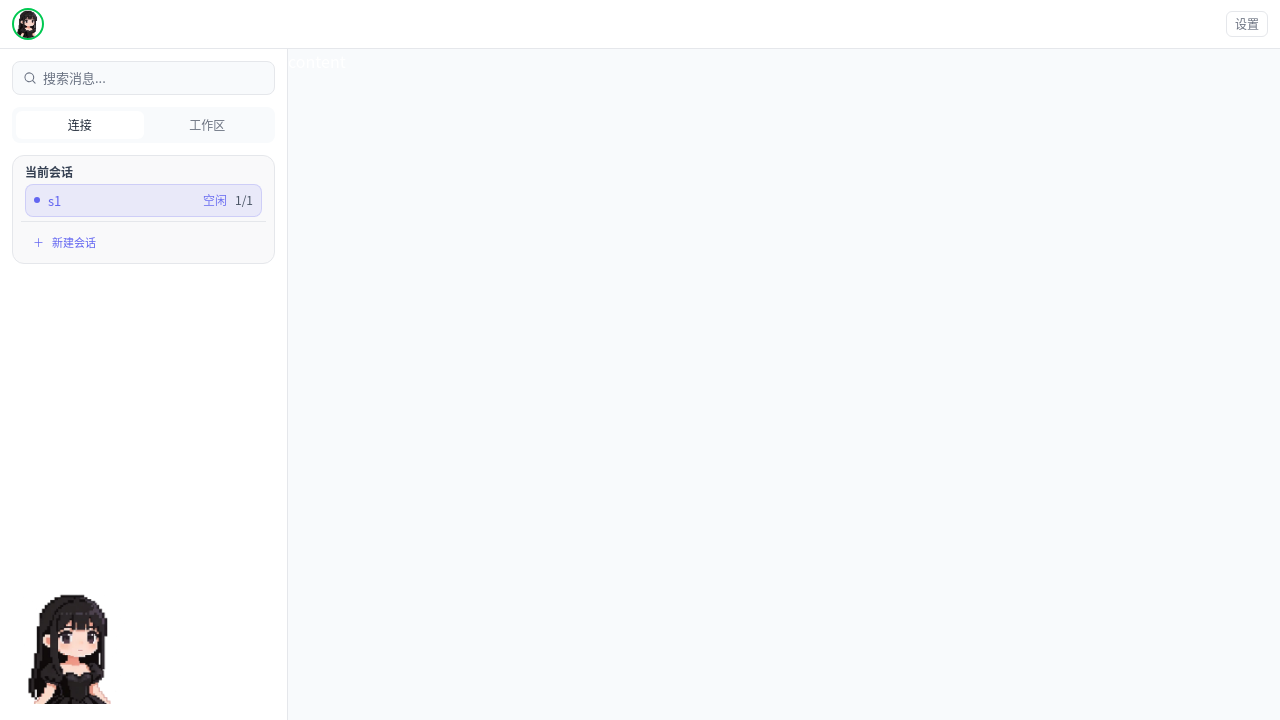
Scenario: Layout › desktop layout › switches between connection and workspace tabs in the sidebar
Expected: the text "当前会话" is shown, 25,162 -> 73,180
Click the tab "工作区". click: [207, 124]
box: 144,110 -> 271,138
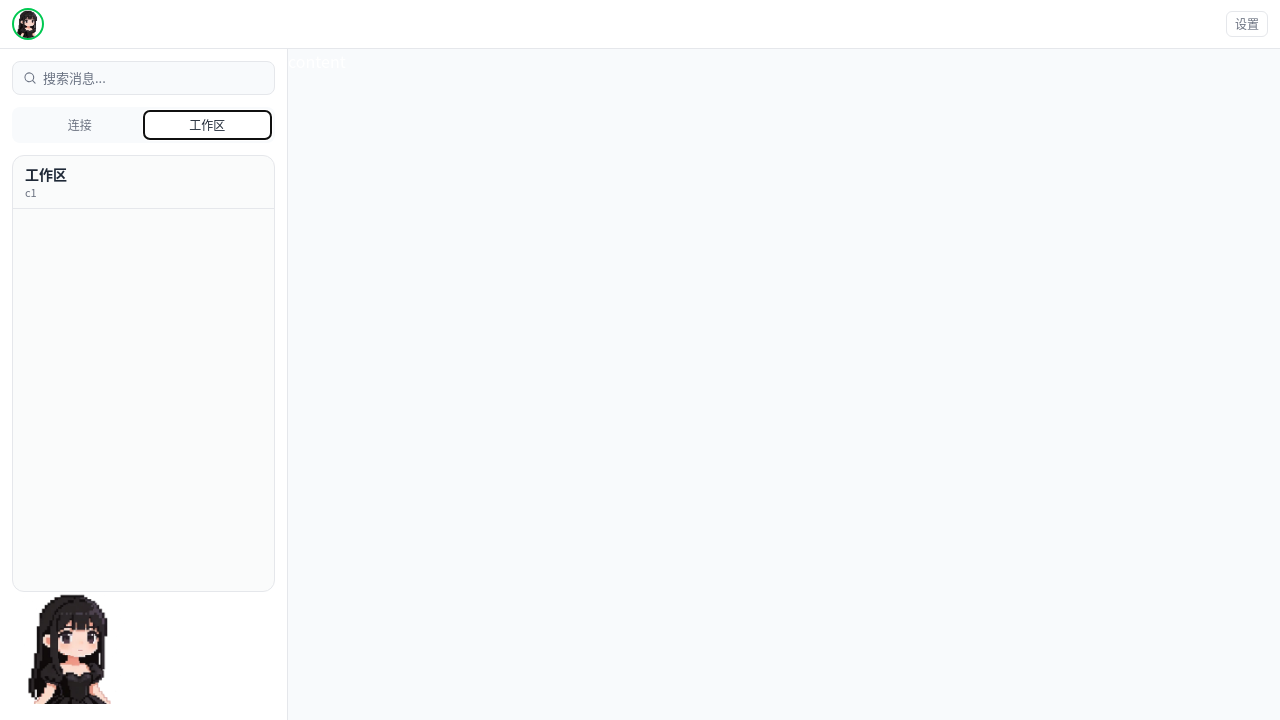
Result: the element with test id "workspace-panel" is shown at 12,154 -> 275,592
Result: the text "当前会话" is gone
